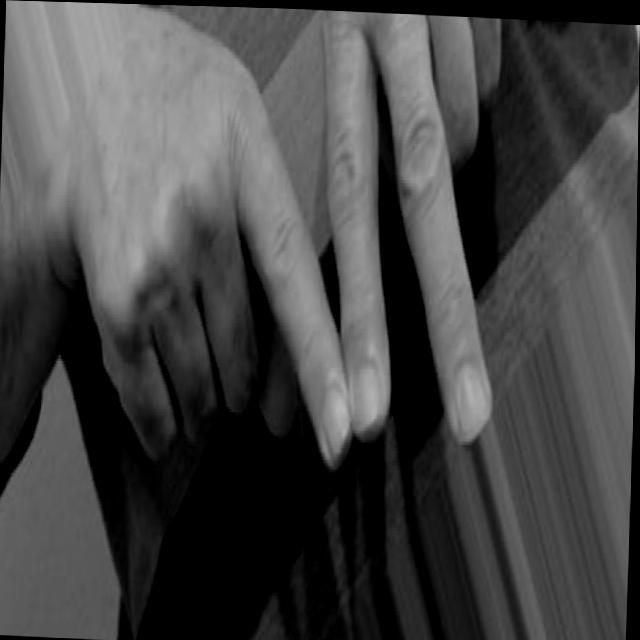N: (72, 2, 512, 510)
